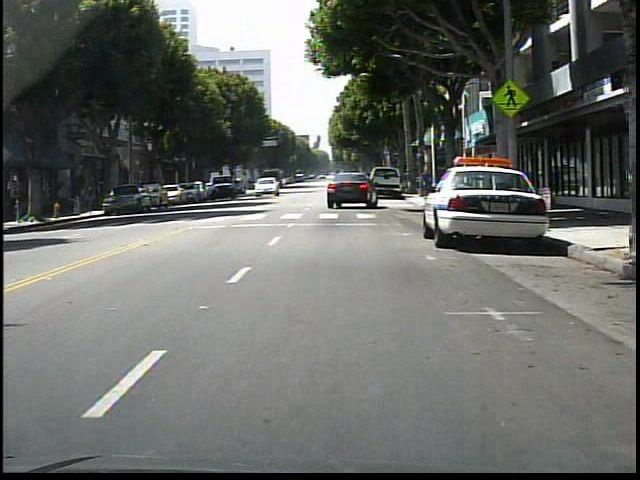person: (419, 165, 441, 206)
